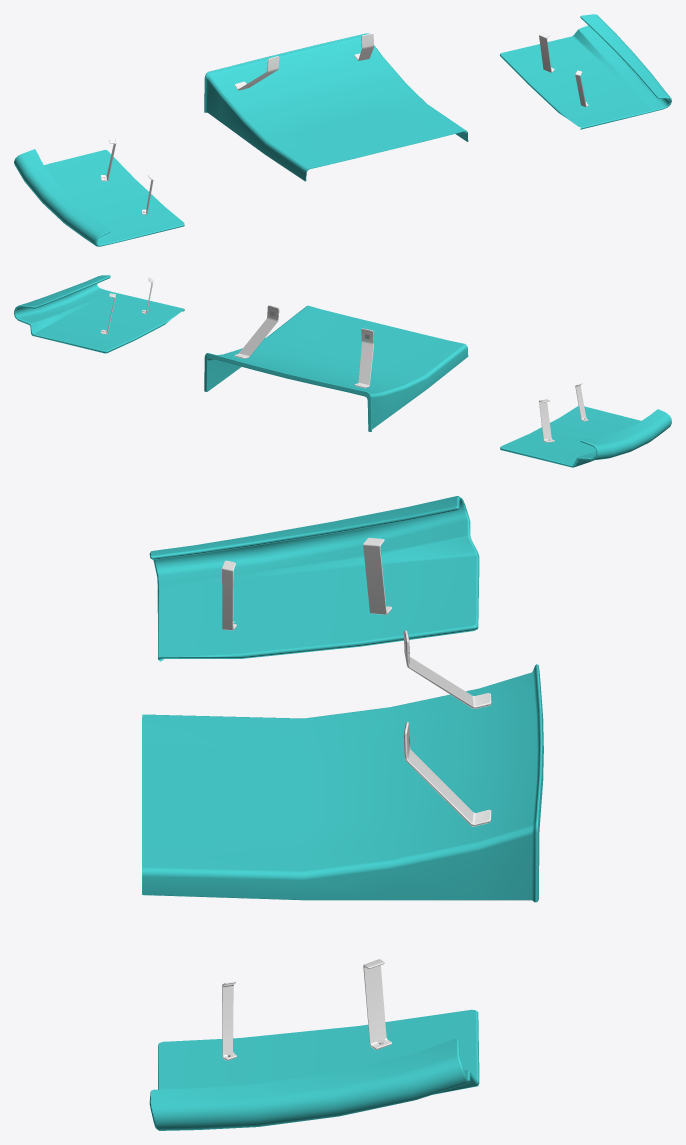
The model's file is Car_Nissan_SkylineGTRVspecR34_1999_Diffuser_SetEF_AltA.fbx.
3 renders of one model, top to bottom at view 1: azimuth 30°, elevation 25°; view 2: azimuth 150°, elevation 25°; view 3: azimuth 270°, elevation 25°, orthographic. The views are drawn at different scales.
Visible parts, largest first — view 1: Diffuser 6; view 2: Diffuser 6; view 3: Diffuser 6.
Boxes of the visible parts, x1,y1,x2,y2 form: Diffuser 6: (14,14,671,246); Diffuser 6: (14,275,671,467); Diffuser 6: (142,496,543,1130).
Size of the model in its own units: 1.96 by 0.2757 by 0.5753.
